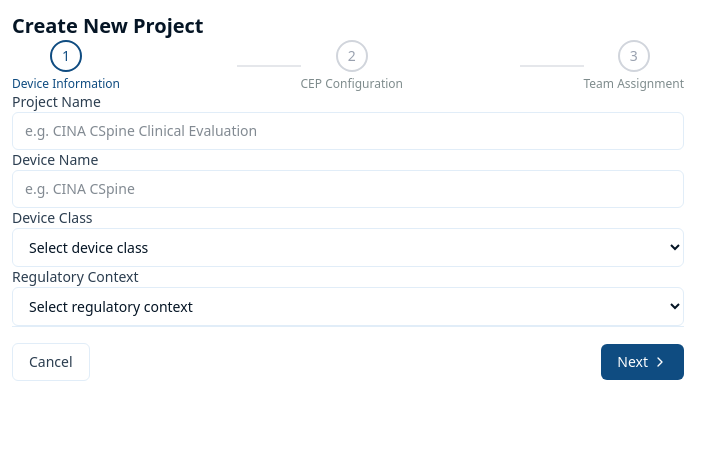
Scenario: ProjectCreateWizard › shows validation errors when advancing with empty fields
Click the button "Next": [643, 362] box [601,344,684,380]
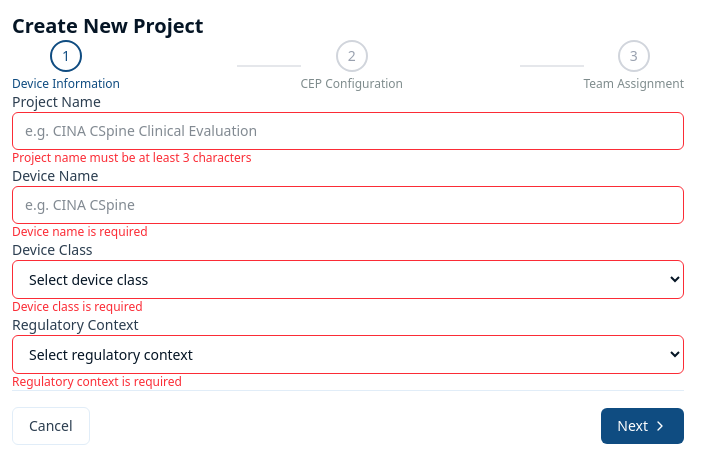
Expected: the text "Project name must be at least 3 characters" is shown, [12,149,252,166]
Expected: the text "Device name is required" is shown, [12,223,148,240]
Expected: the text "Device class is required" is shown, [12,298,142,315]
